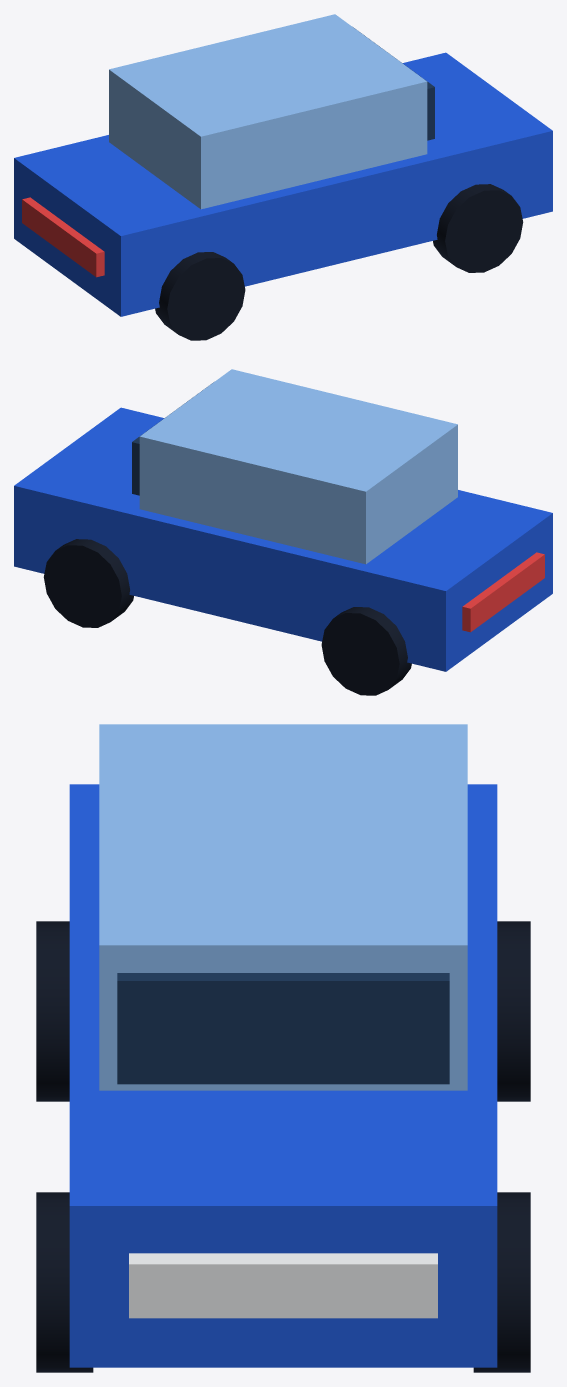
Rendered from car.glb.
3 renders of one model, top to bottom at view 1: azimuth 30°, elevation 25°; view 2: azimuth 150°, elevation 25°; view 3: azimuth 270°, elevation 25°, orthographic. The views are drawn at different scales.
Bounding box in the file's own units: 4.39 × 1.76 × 2.08.
